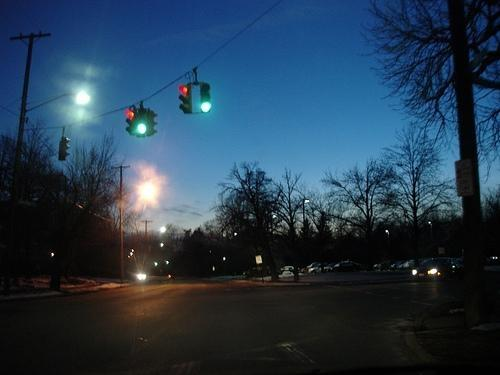car: (408, 258, 462, 282), (324, 261, 362, 272), (126, 270, 148, 284), (300, 262, 320, 273), (278, 264, 300, 274), (308, 263, 321, 275), (486, 255, 500, 266), (397, 260, 415, 268), (374, 262, 382, 270), (389, 264, 397, 270)
